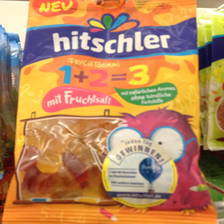candy: (7, 1, 215, 224)
